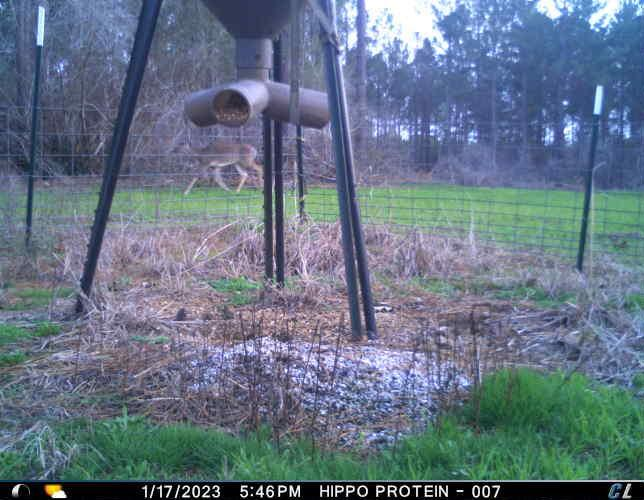Deer: (171, 132, 269, 199)
